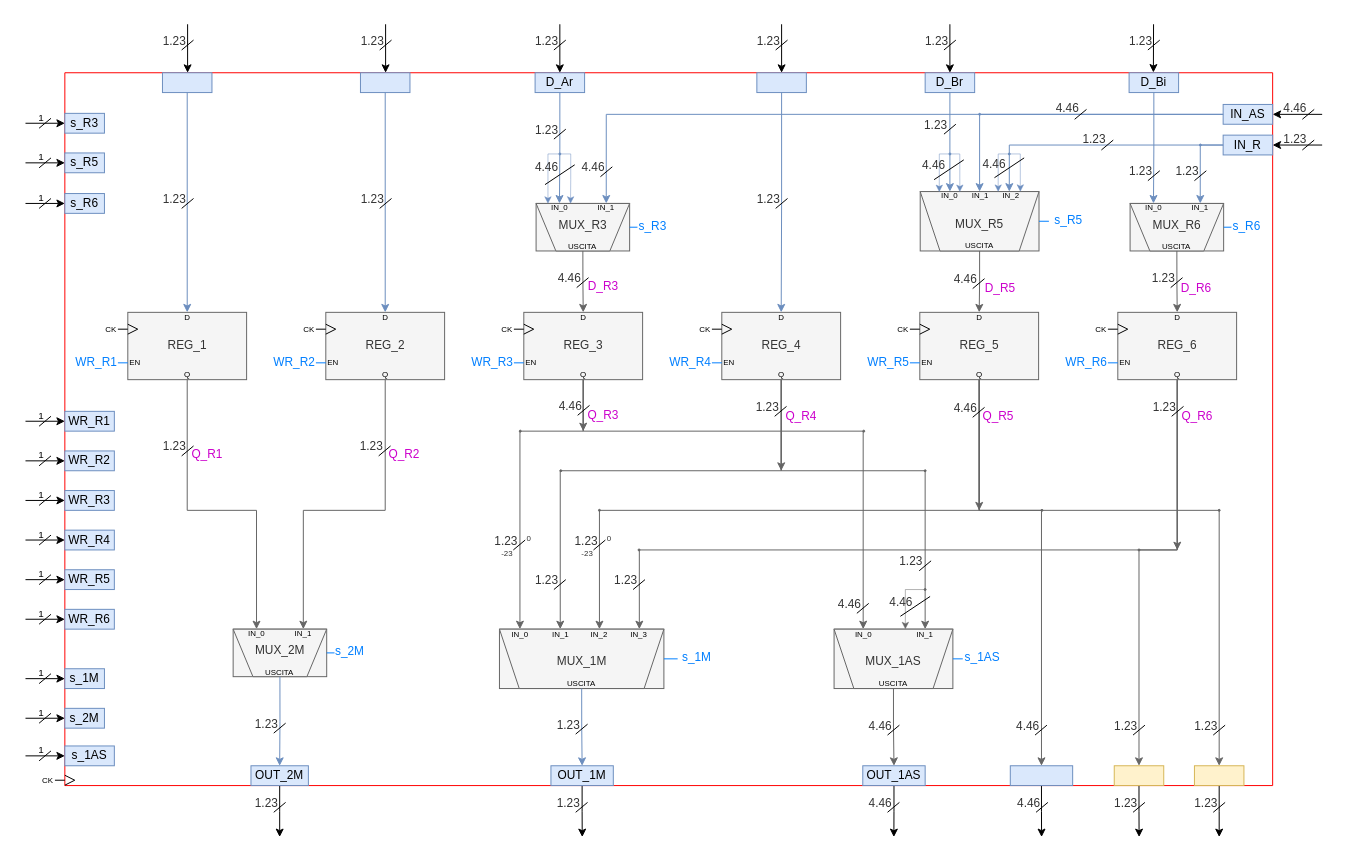
Some shapes in this 1347 by 862 pixel diagram are drawn without their labels. The centre of each missing label's shape, as x and y in pixels:
D_Ai: [781,82]
D_Wi: [384,82]
D_Wr: [186,82]
OUT_R: [1041,775]
Q_Bi: [1218,775]
Q_Br: [1138,775]
